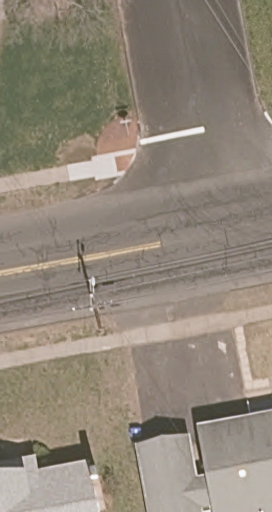DT: (87, 274, 96, 312)
